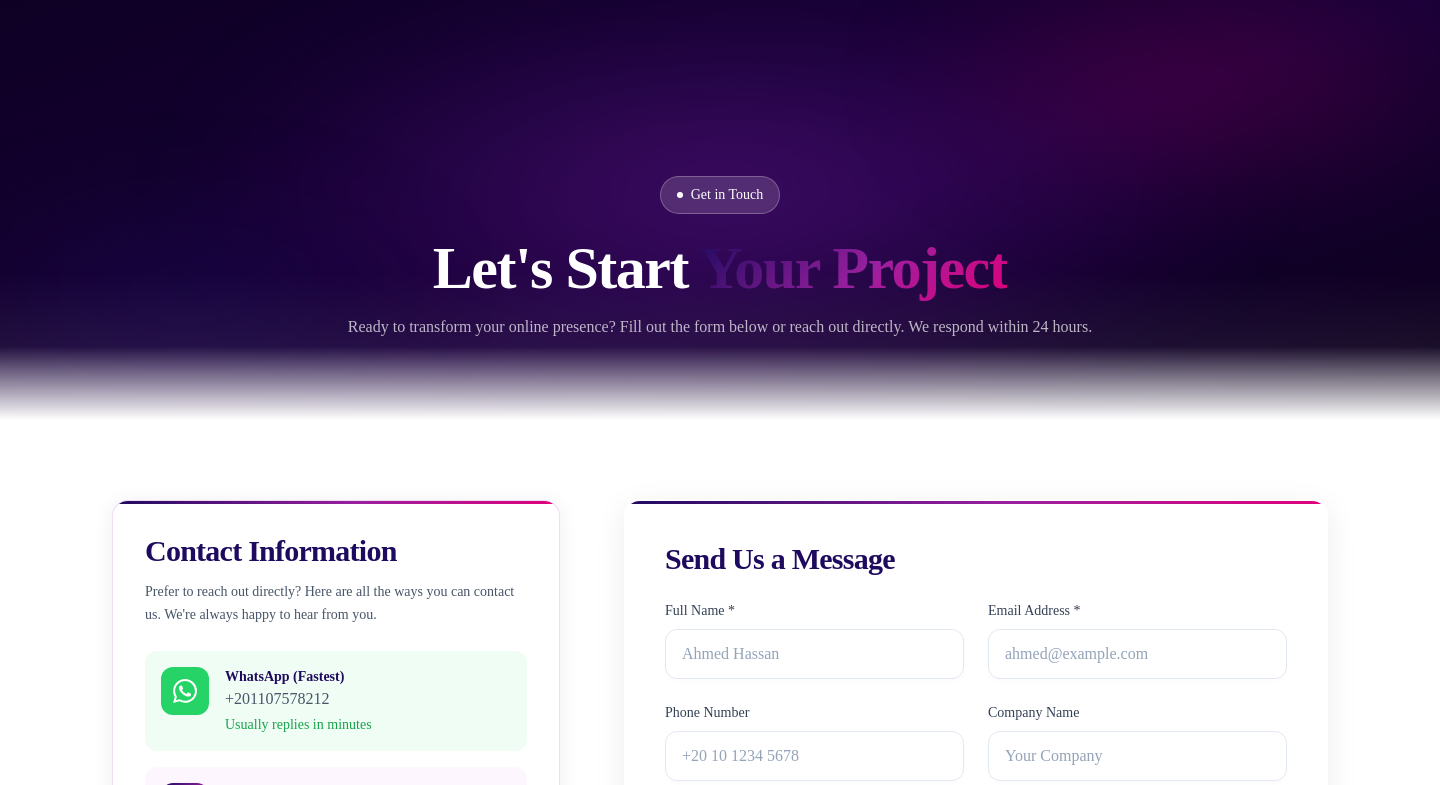
Scenario: ContactPage client-side validation › shows a field error for a too-short message without submitting
Type "Karim Hassan" into the field labelled "Full Name *" at (814, 654), box [665,629,964,679]
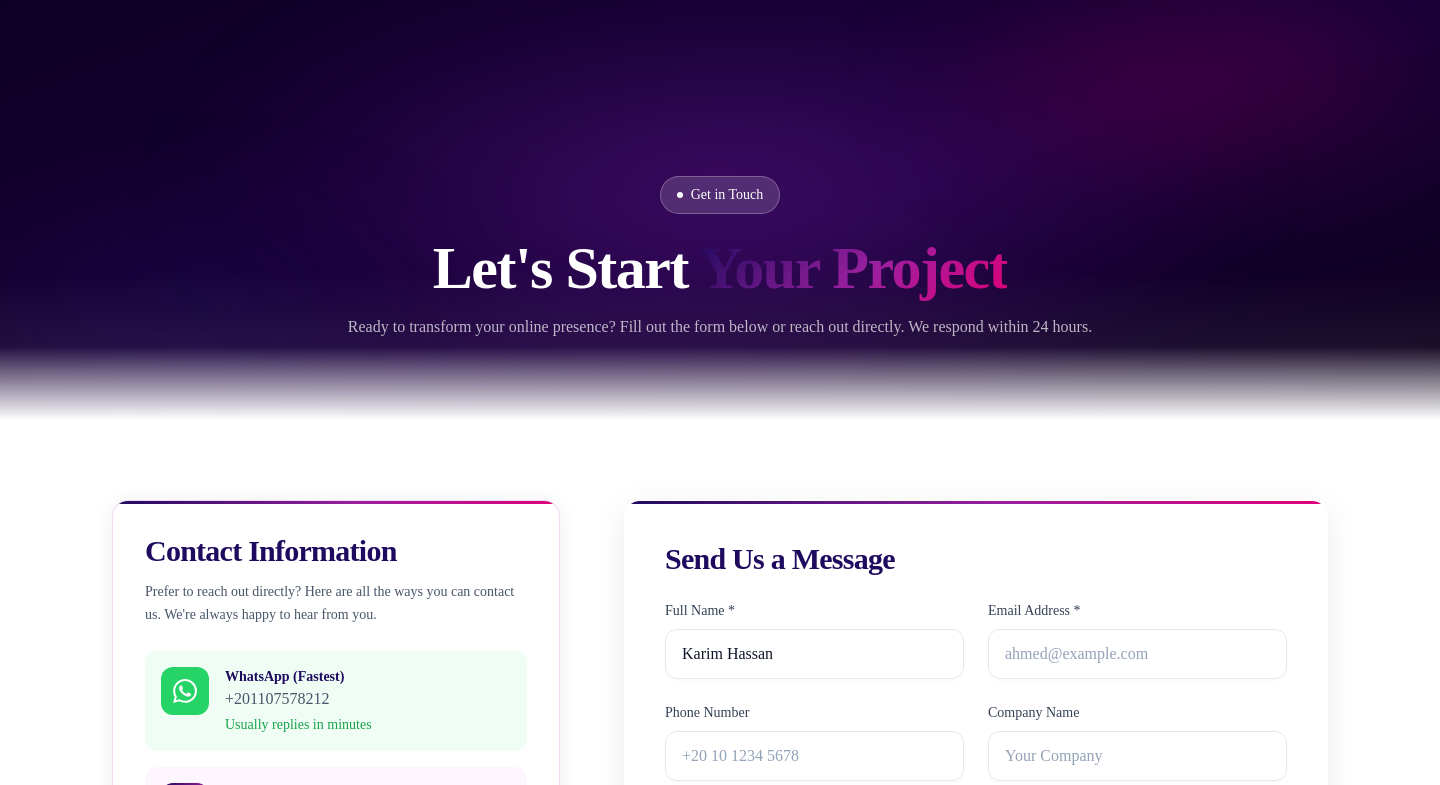
Type "karim@example.com" into the field labelled "Email Address *" at (1138, 654), box [988,629,1287,679]
(page scrolled)
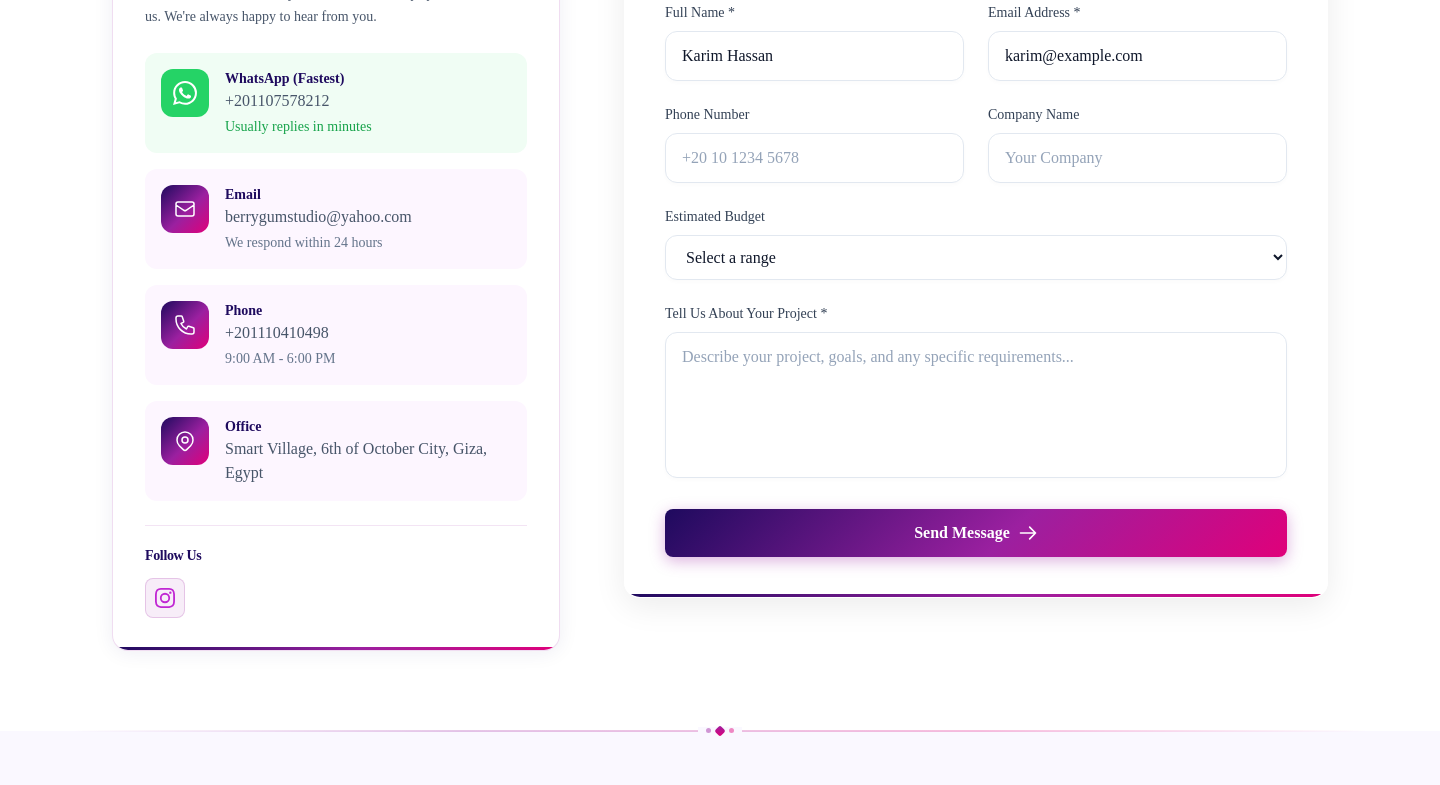
Replace the text in the text box labelled "Tell Us About Your Project *" with "too short" at (976, 405), box [665,332,1287,478]
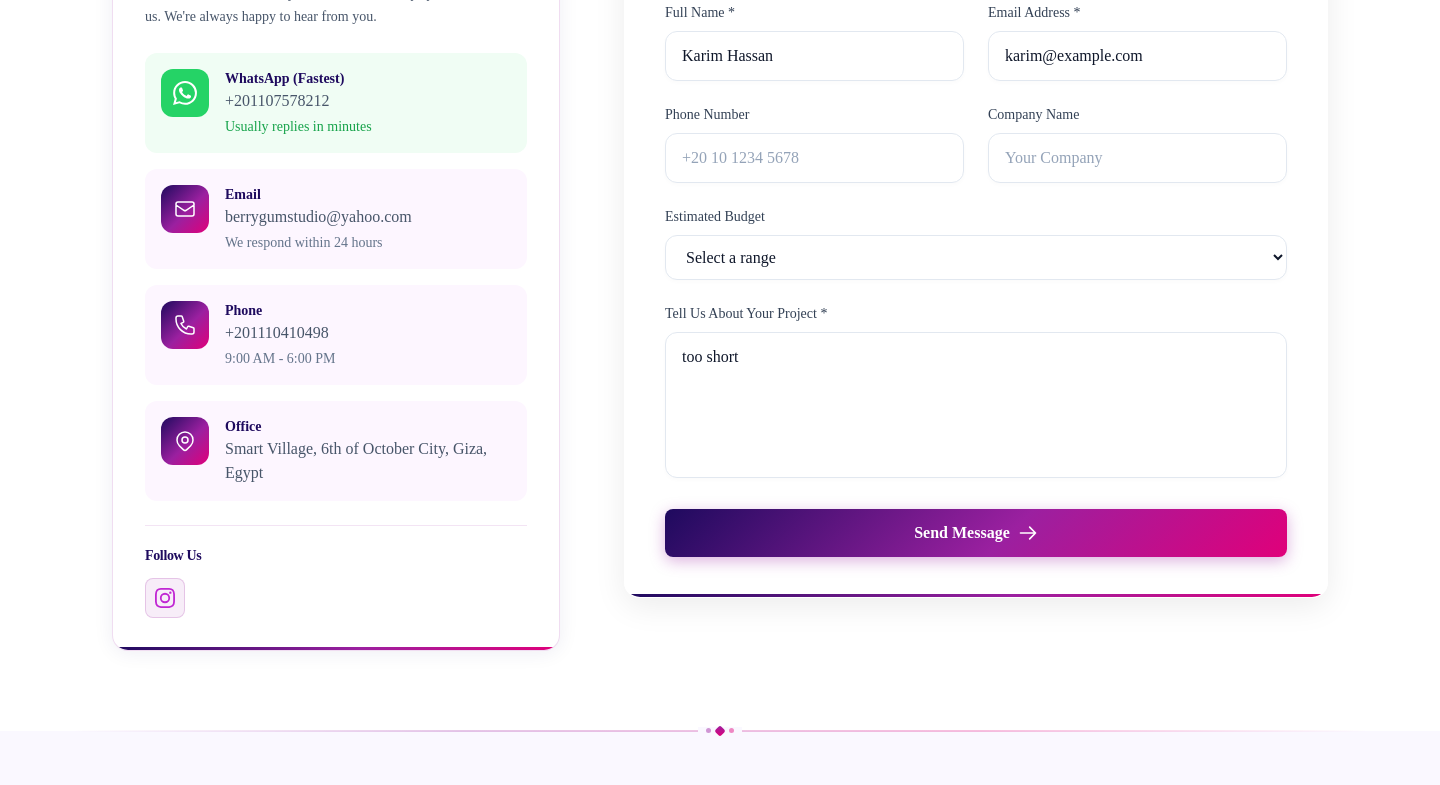
Click the button "Send Message" at (976, 533), box [665,509,1287,557]
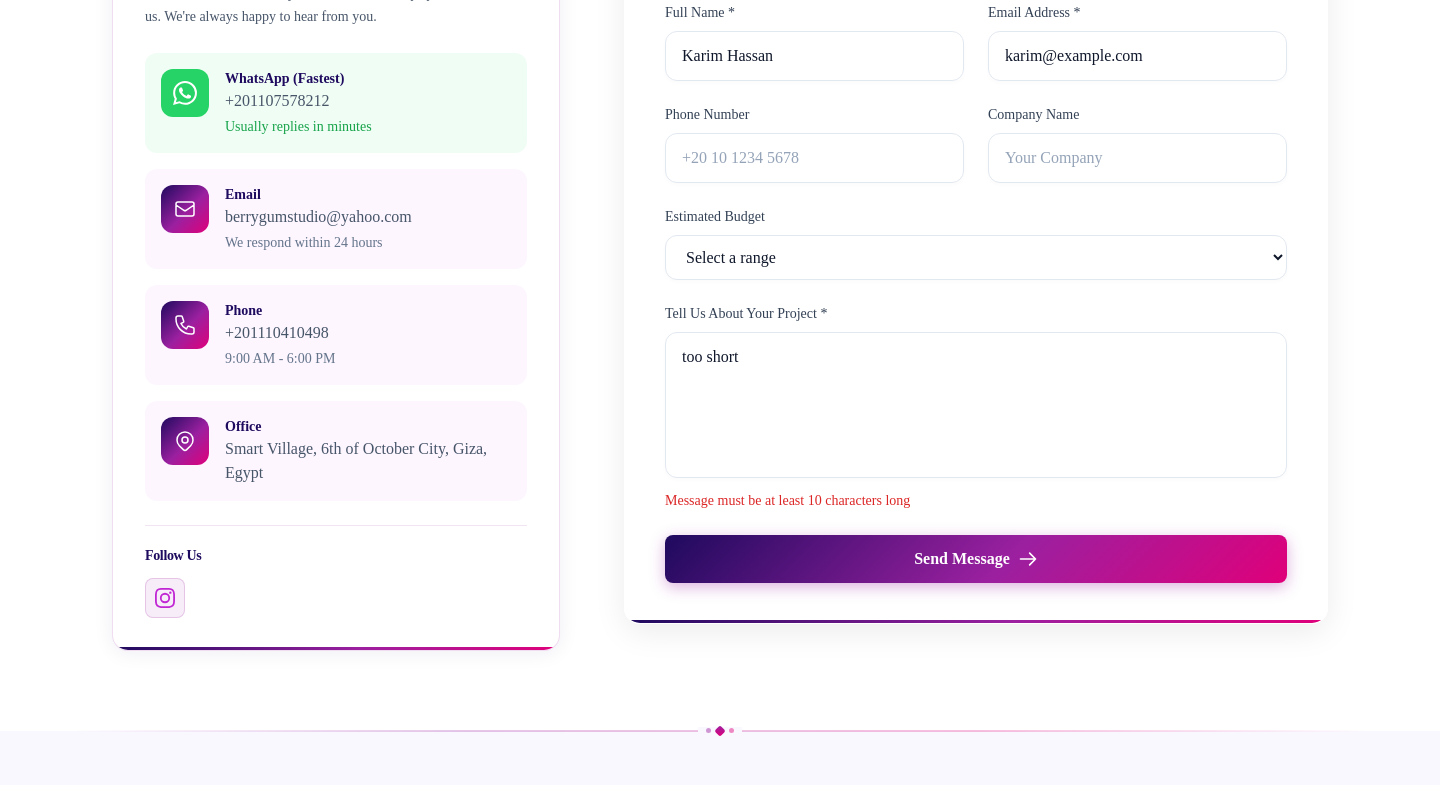
Now the text "Message must be at least 10 characters long" is shown, box [665,493,910,508]
